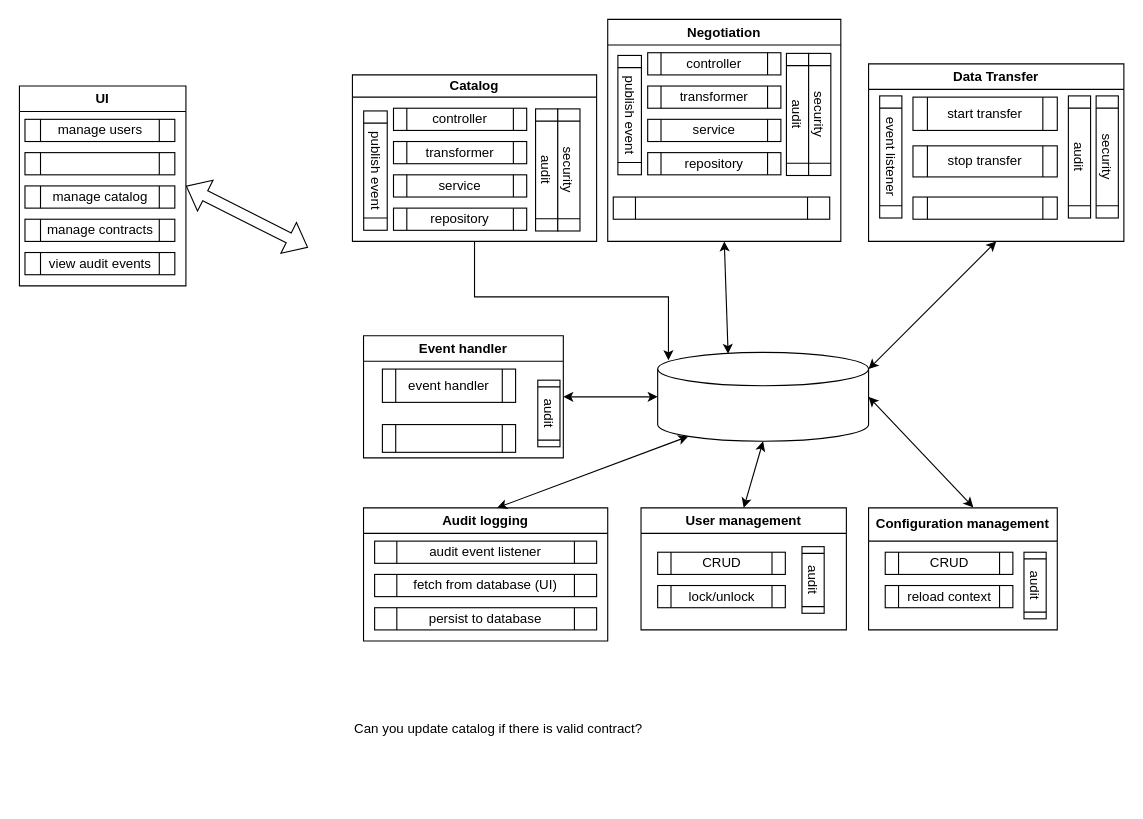
Some shapes in this 1143 by 819 pixel diagram are drawn without their labels. Here are the shapes that lost their labels. From the top down, the centre of each, then its label:
At [99,163]: "manage config".
At [721,207]: "validity contract check".
At [984,207]: "notification service".
At [763,396]: "Database".
At [448,437]: "persist events".
